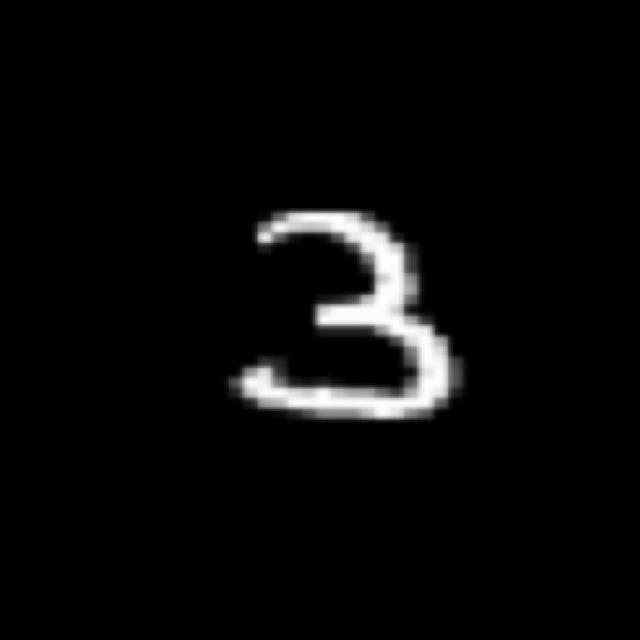three -3-: (224, 201, 472, 431)
